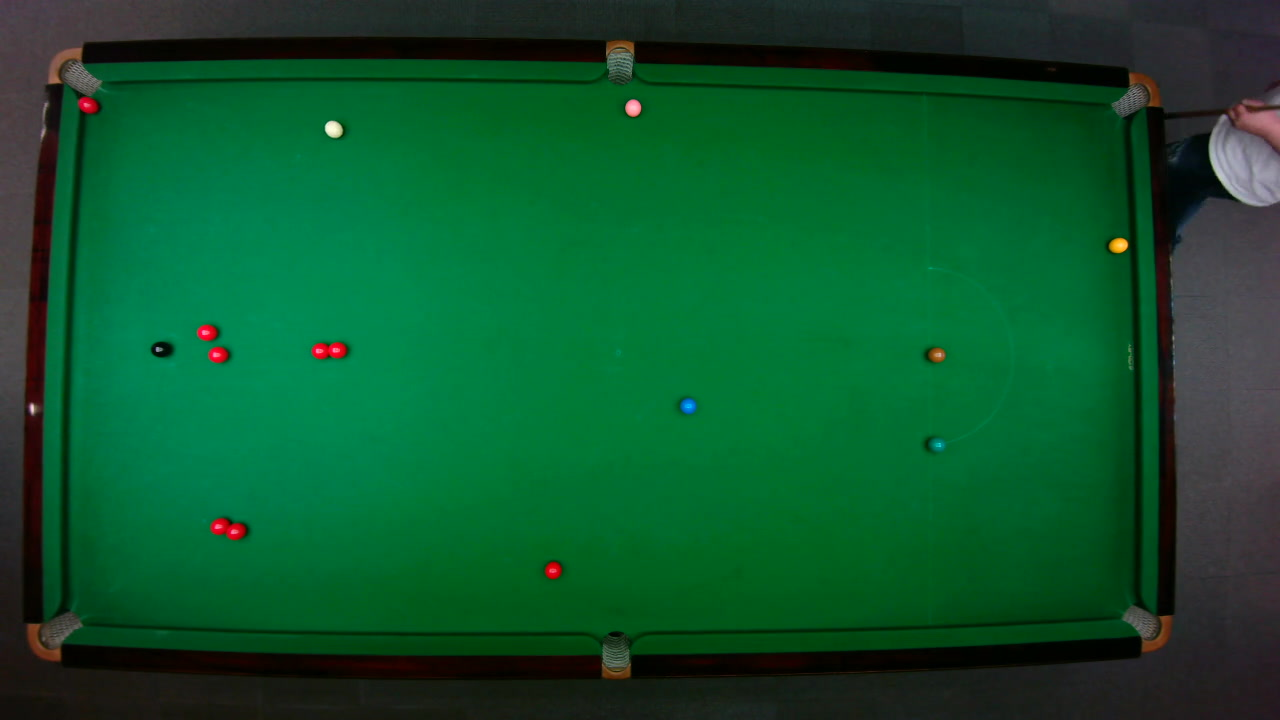bag: (25, 609, 83, 662), (45, 46, 102, 96), (1119, 603, 1171, 652), (1109, 71, 1161, 118), (600, 629, 630, 680), (605, 38, 633, 85)
black: (149, 339, 171, 357)
blue: (678, 396, 696, 414)
brown: (926, 346, 945, 362)
green: (926, 434, 946, 453)
pink: (623, 97, 642, 117)
red: (208, 516, 231, 536), (224, 520, 247, 540), (195, 322, 218, 341), (324, 340, 347, 359), (76, 95, 99, 114), (542, 559, 562, 579), (207, 345, 229, 363), (310, 341, 329, 359)
white: (322, 118, 343, 138)
yellow: (1107, 235, 1129, 253)
zone: (926, 265, 1013, 445)
